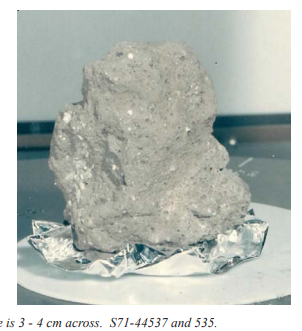Breccia: (53, 29, 262, 255)
